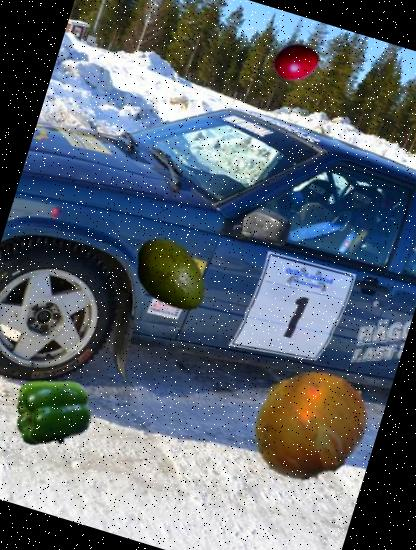Avocado: (118, 224, 222, 328)
Onion: (234, 348, 384, 498)
Pepper: (2, 362, 102, 462)
Tamarillo: (262, 31, 326, 96)
